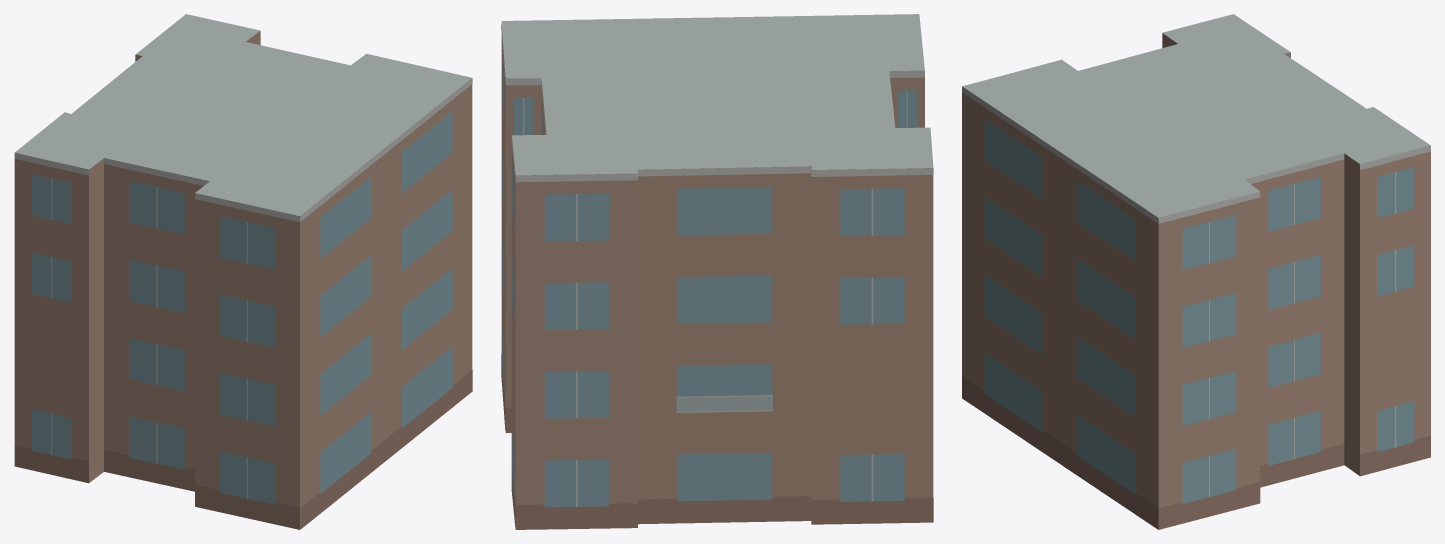
File: survey-upis-32598004.glb
3 views of the same model, side by side, from view 1: azimuth 30°, elevation 25°; view 2: azimuth 150°, elevation 25°; view 3: azimuth 270°, elevation 25° (orthographic). The views are drawn at different scales.
Parts seen in each view (by area): view 1: survey-upis-32598004.tmp; view 2: survey-upis-32598004.tmp; view 3: survey-upis-32598004.tmp.
Part boxes in pixels (x1=…): survey-upis-32598004.tmp: x1=14, y1=14, x2=472, y2=529; survey-upis-32598004.tmp: x1=501, y1=14, x2=933, y2=529; survey-upis-32598004.tmp: x1=962, y1=14, x2=1430, y2=529.
Size of the model in its own units: 17.66 by 12.6 by 17.16.
